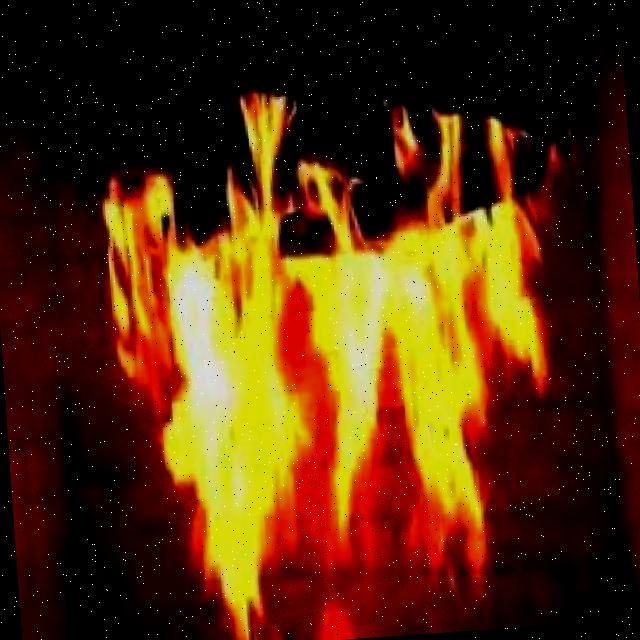fire: (107, 184, 563, 640)
